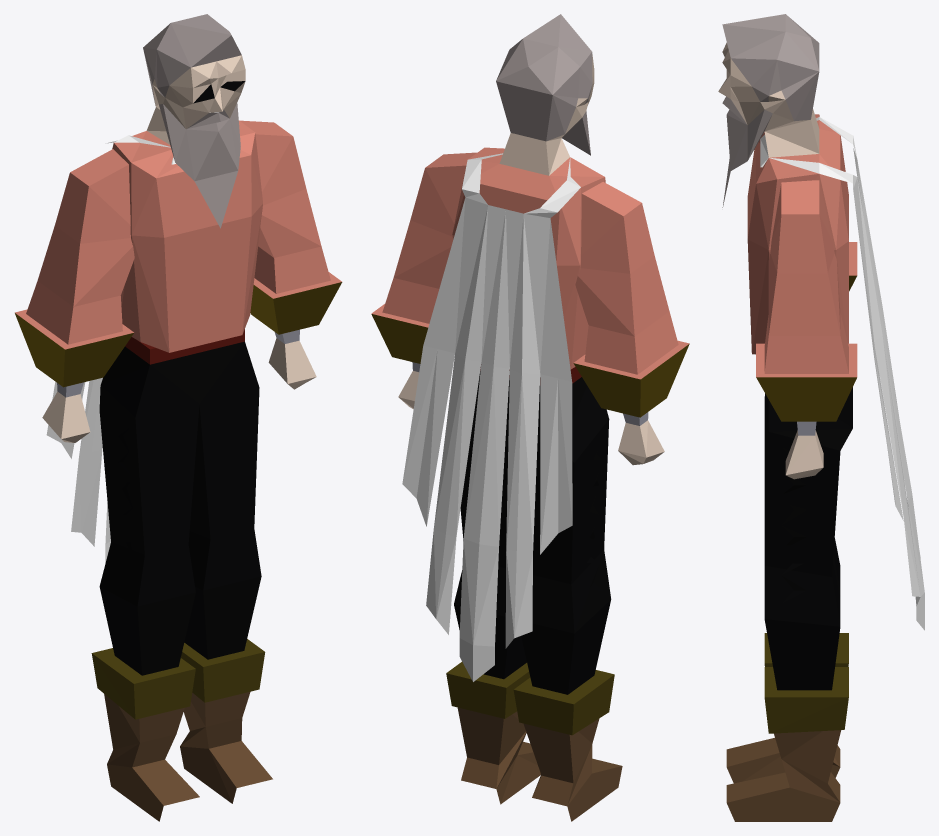
The model's file is castle-wars.gltf.
3 views of the same model, side by side, from view 1: azimuth 30°, elevation 25°; view 2: azimuth 150°, elevation 25°; view 3: azimuth 270°, elevation 25° (orthographic). The views are drawn at different scales.
Size of the model in its own units: 76 by 203 by 49.
Materials: 1 (1 with a texture image).
